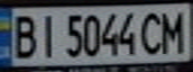0: (81, 10, 103, 57)
4: (118, 8, 142, 56), (100, 9, 121, 56)
5: (60, 10, 84, 58)
B: (6, 10, 42, 60)
C: (139, 8, 166, 56)
I: (33, 10, 60, 58)
M: (157, 7, 190, 54)
